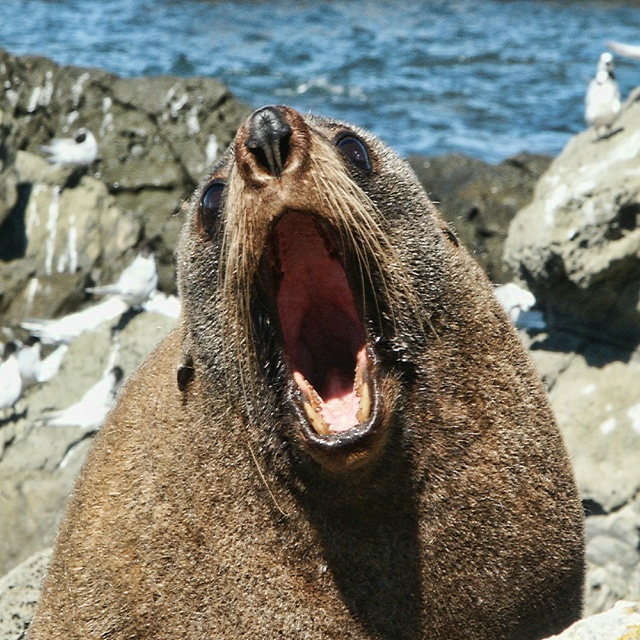Harbor seal: (44, 101, 607, 638)
